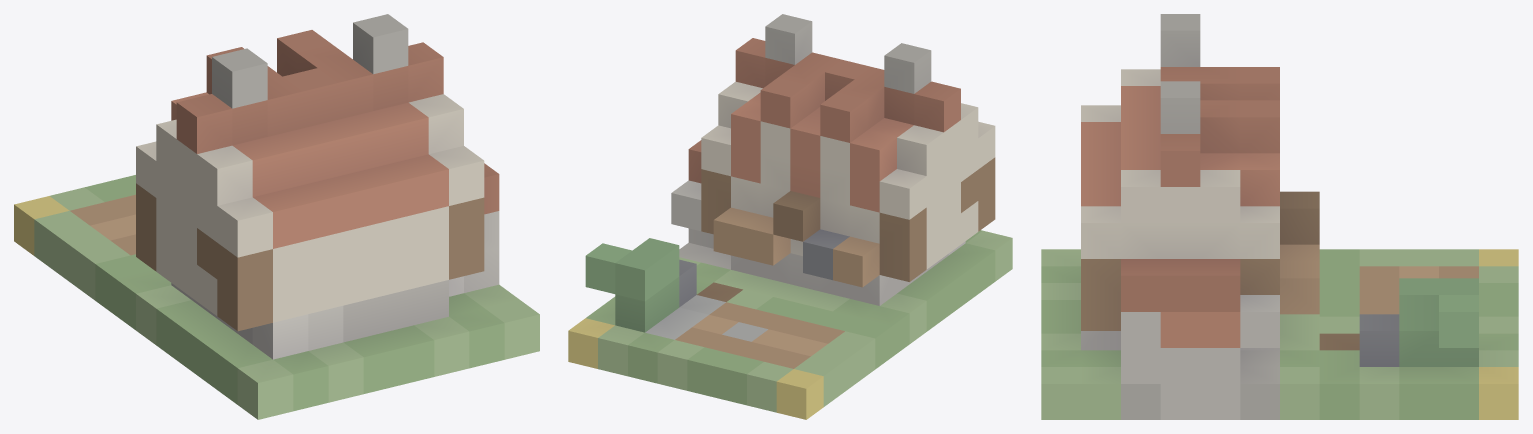
Rendered from tavern.lite.glb.
The picture shows the model from 3 angles, left to right: view 1: azimuth 30°, elevation 25°; view 2: azimuth 150°, elevation 25°; view 3: azimuth 270°, elevation 25°; orthographic projection. The views are drawn at different scales.
Parts seen in each view (by area): view 1: tavern; view 2: tavern; view 3: tavern.
Boxes of the visible parts, box(x1,y1,x2,y2) form: tavern: box(14, 14, 539, 419); tavern: box(568, 14, 1012, 419); tavern: box(1041, 14, 1518, 419).
Bounding box in the file's own units: 4 × 4 × 6.
